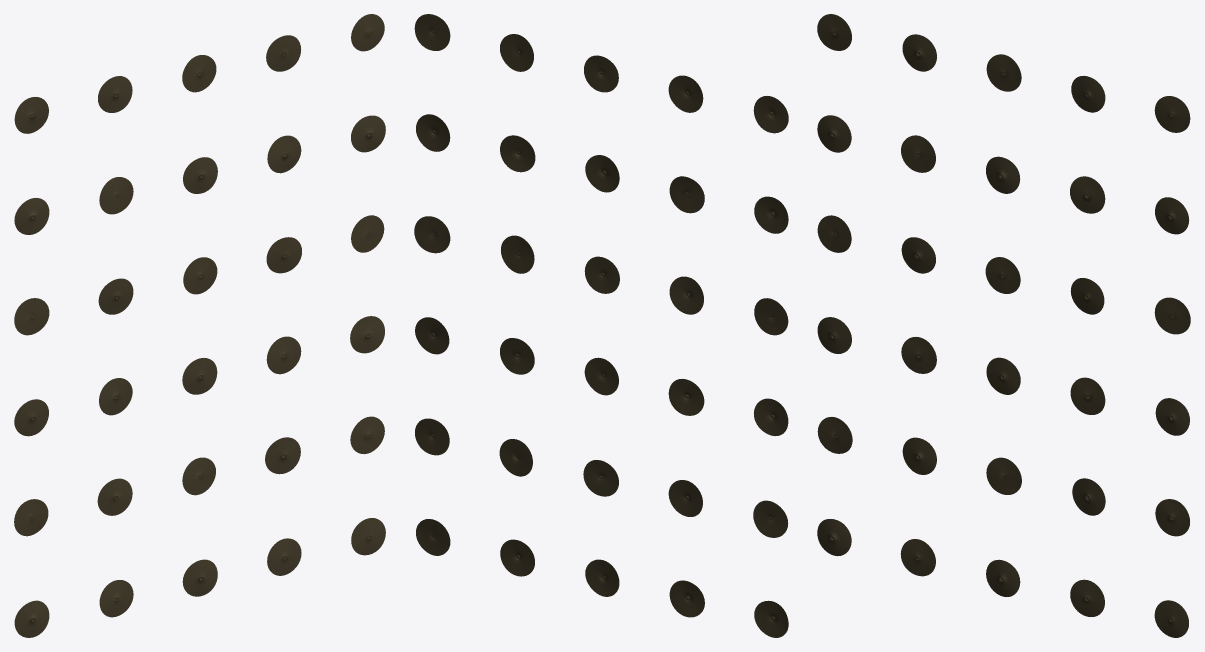
File: 06_sediment.obj
3 views of the same model, side by side, from view 1: azimuth 30°, elevation 25°; view 2: azimuth 150°, elevation 25°; view 3: azimuth 330°, elevation 25° (orthographic).
Visible parts, largest first — view 1: 06_sediment; view 2: 06_sediment; view 3: 06_sediment.
Part boxes in pixels (<box>): 06_sediment: <box>14,14,385,637</box>; 06_sediment: <box>414,14,788,637</box>; 06_sediment: <box>817,14,1190,637</box>.
Bounding box in the file's own units: 15.44 × 21.44 × 0.2644.
